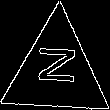N_W: (33, 50, 80, 92)
